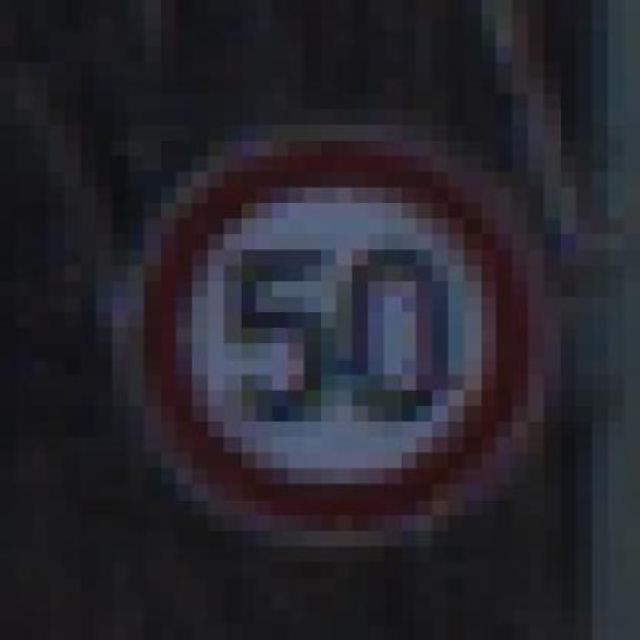Speed limit 50: (136, 118, 549, 546)
